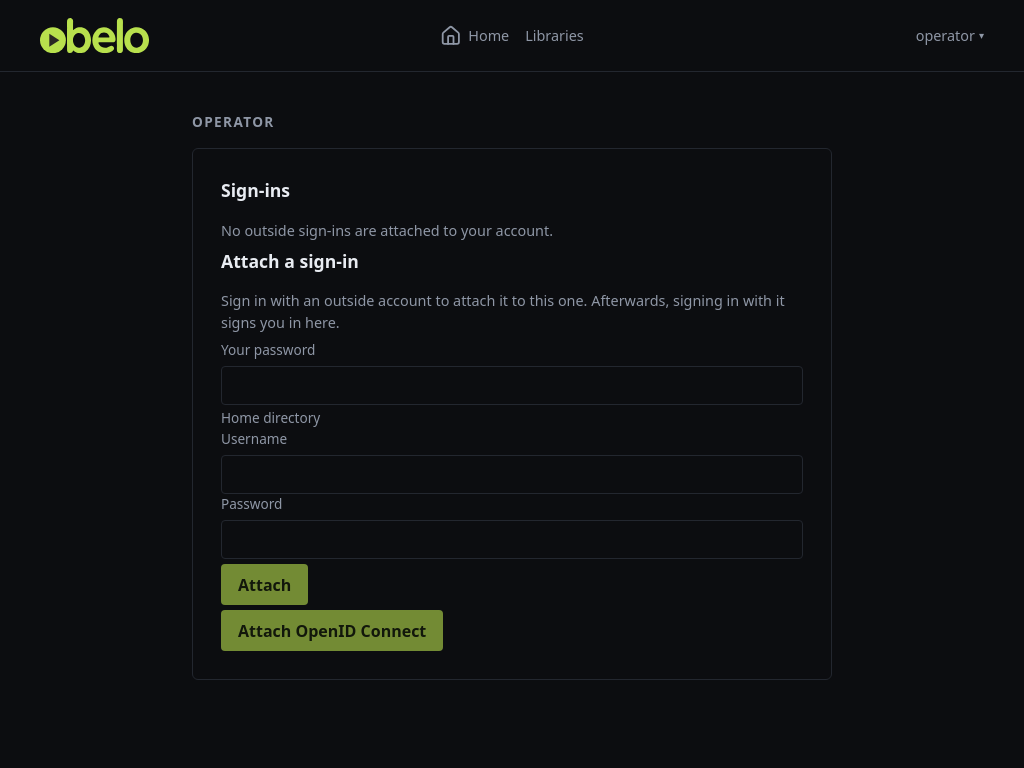
the profile's sign-ins › shows the server's refusal when the sign-in is somebody else's
Type "mine" into the password field with test id "profile-current-password" at (512, 385), box [221,366,803,405]
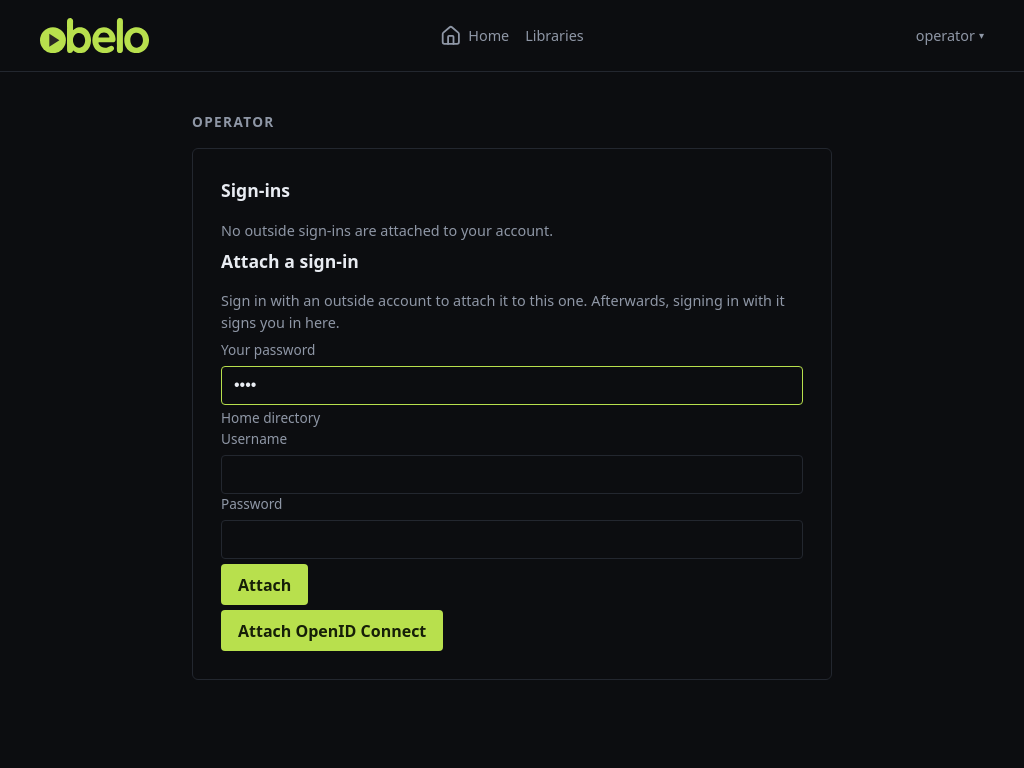
Type "ada" into the field with test id "profile-attach-username-directory" at (512, 474), box [221,455,803,494]
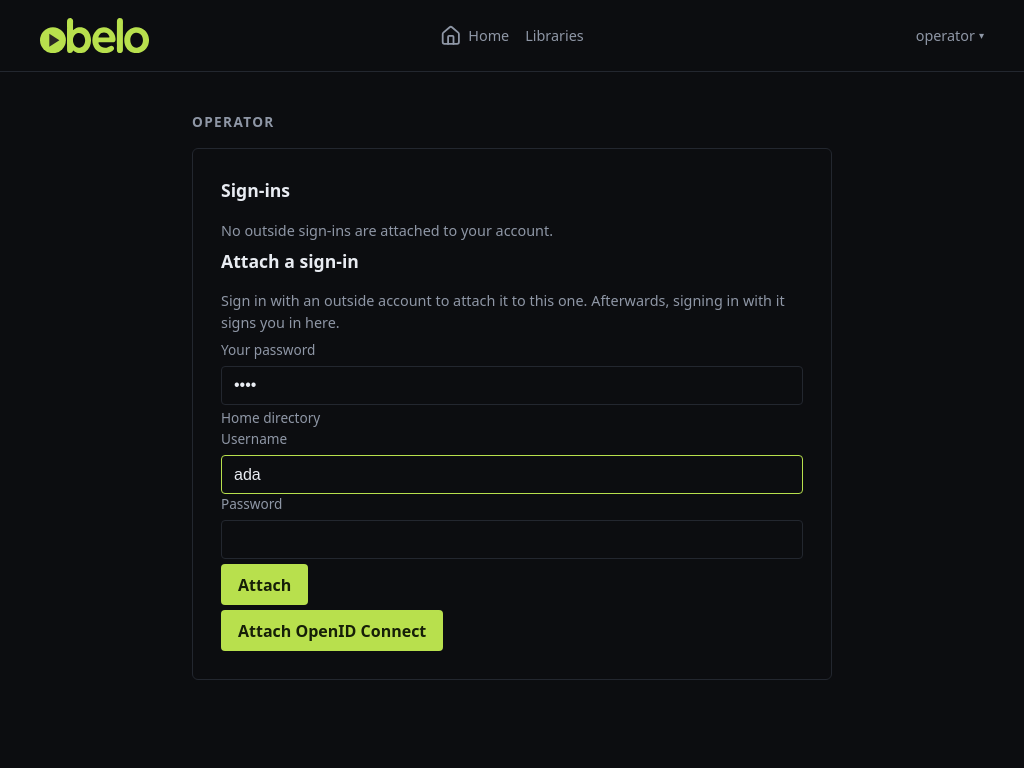
Type "pw" into the password field with test id "profile-attach-password-directory" at (512, 540), box [221,520,803,559]
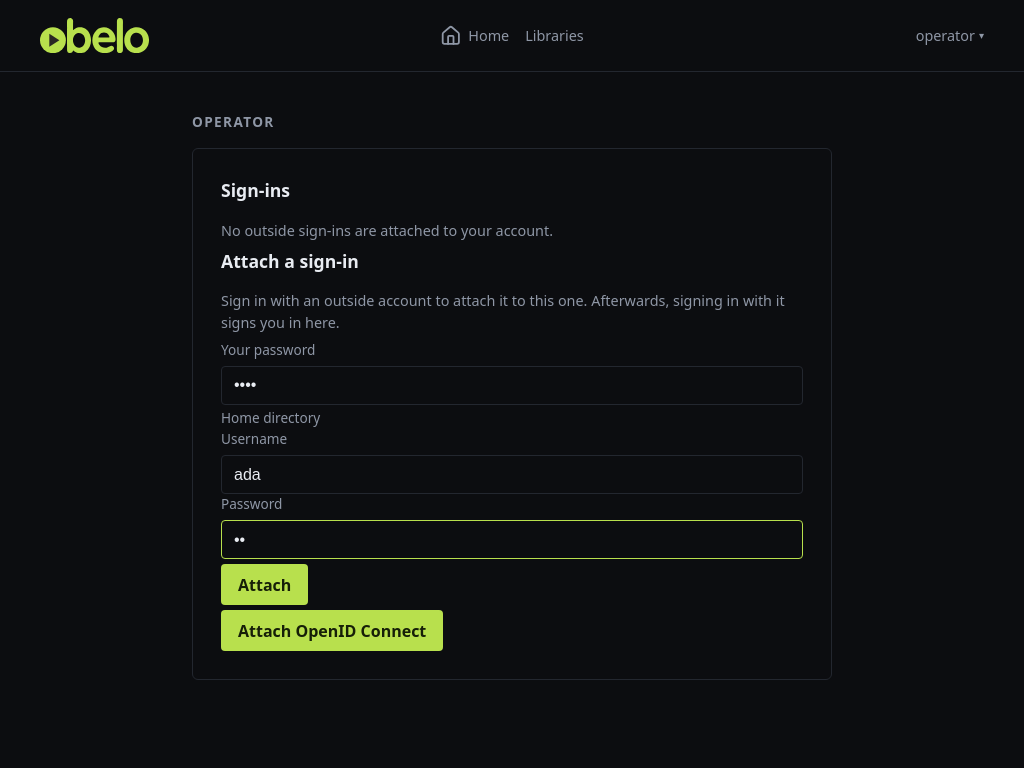
Click the button with test id "profile-attach-submit-directory" at (265, 585), box [221,564,308,605]
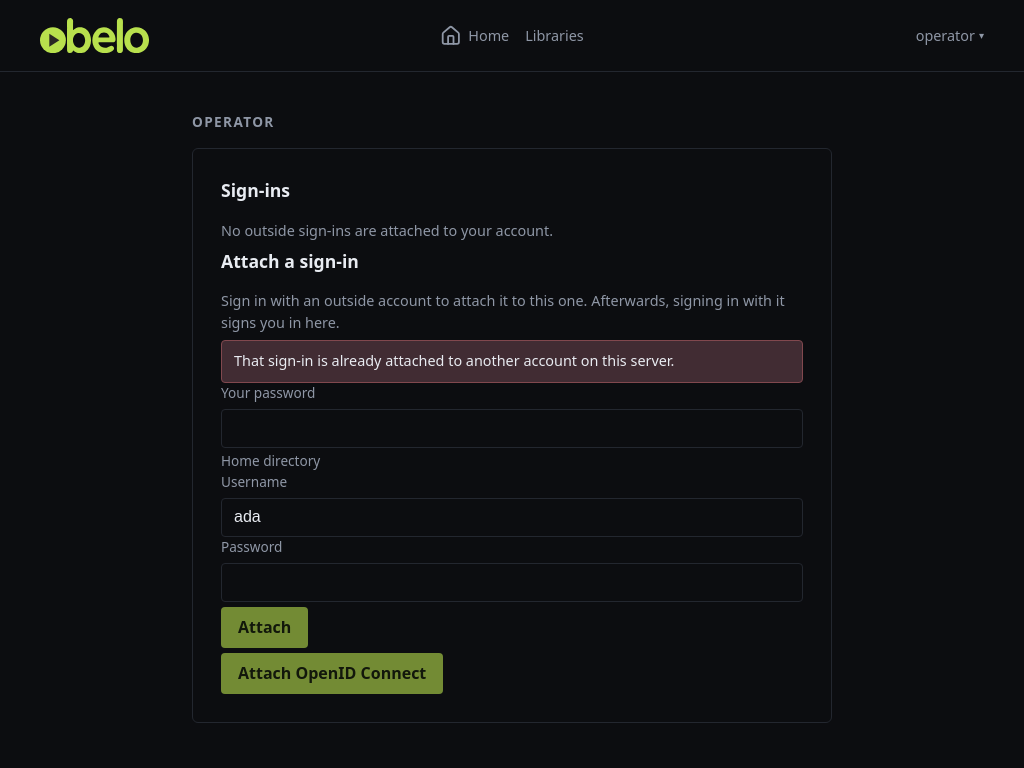
expect the message with test id "profile-attach-error" shows "already attached to another account": met, box [234,351,674,370]
